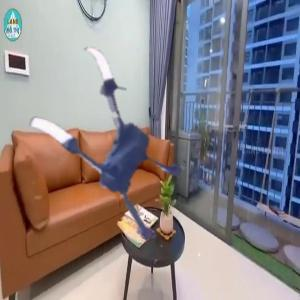drone: (5, 48, 210, 253)
